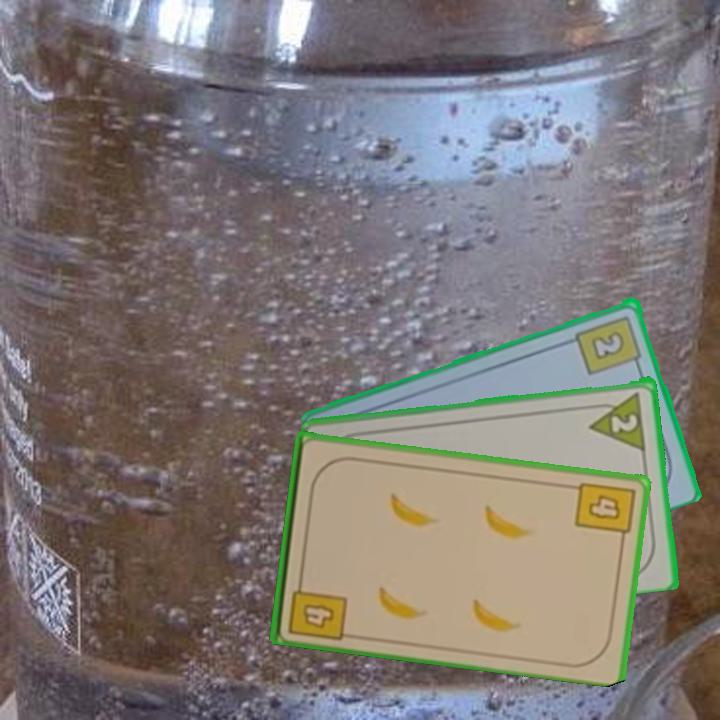2b: (573, 311, 645, 378)
2p: (584, 388, 649, 451)
4b: (284, 572, 349, 643), (571, 478, 638, 546)
